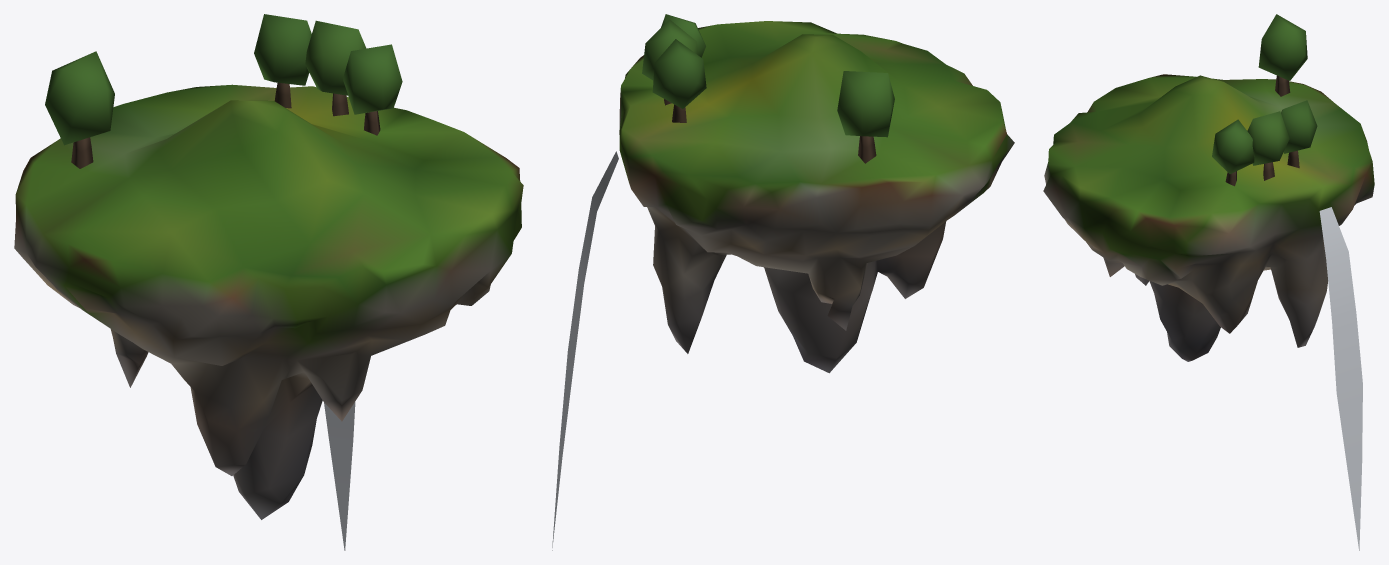
File: island-hill-lod2.glb
3 renders of one model, left to right at view 1: azimuth 30°, elevation 25°; view 2: azimuth 150°, elevation 25°; view 3: azimuth 270°, elevation 25°, orthographic. The views are drawn at different scales.
Visible parts, largest first — view 1: Silhouette; view 2: Silhouette; view 3: Silhouette.
Part boxes in pixels (box(x1,y1,x2,y2)): Silhouette: box(14, 14, 523, 550); Silhouette: box(552, 14, 1014, 550); Silhouette: box(1043, 14, 1374, 550).
Size of the model in its own units: 31.89 by 42.06 by 29.95.
